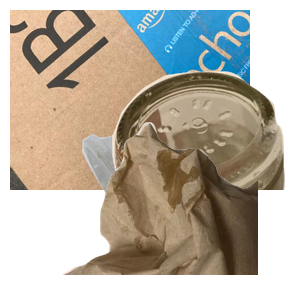cardboard: (10, 10, 250, 190)
glass: (89, 69, 300, 249)
plastic: (80, 120, 289, 300)
trash: (60, 120, 300, 300)
